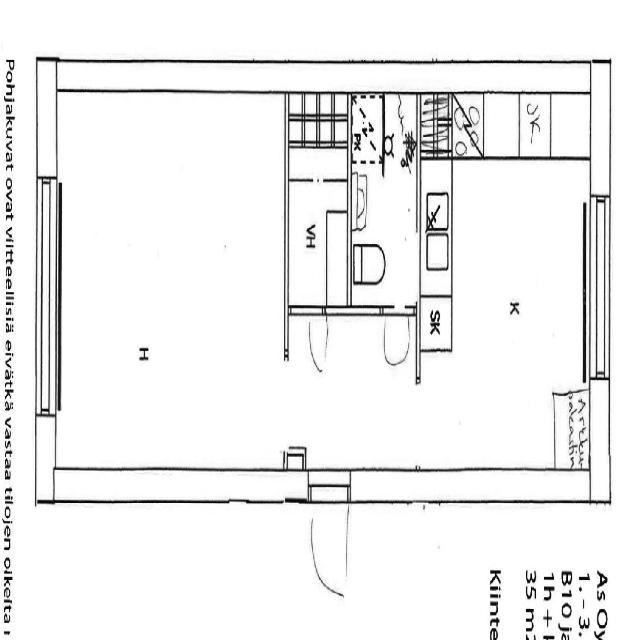door: (306, 480, 352, 607), (380, 304, 415, 376), (351, 92, 384, 158), (305, 310, 330, 379)
zone: (50, 92, 288, 473), (411, 142, 589, 470), (350, 90, 418, 300), (286, 116, 348, 310), (352, 93, 384, 163)
